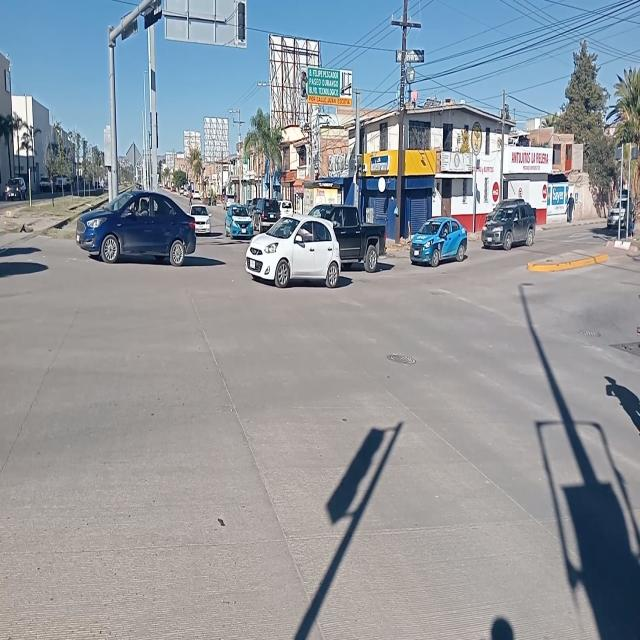Auto: (75, 190, 196, 264), (247, 213, 340, 290), (410, 217, 467, 267), (482, 203, 537, 249)
